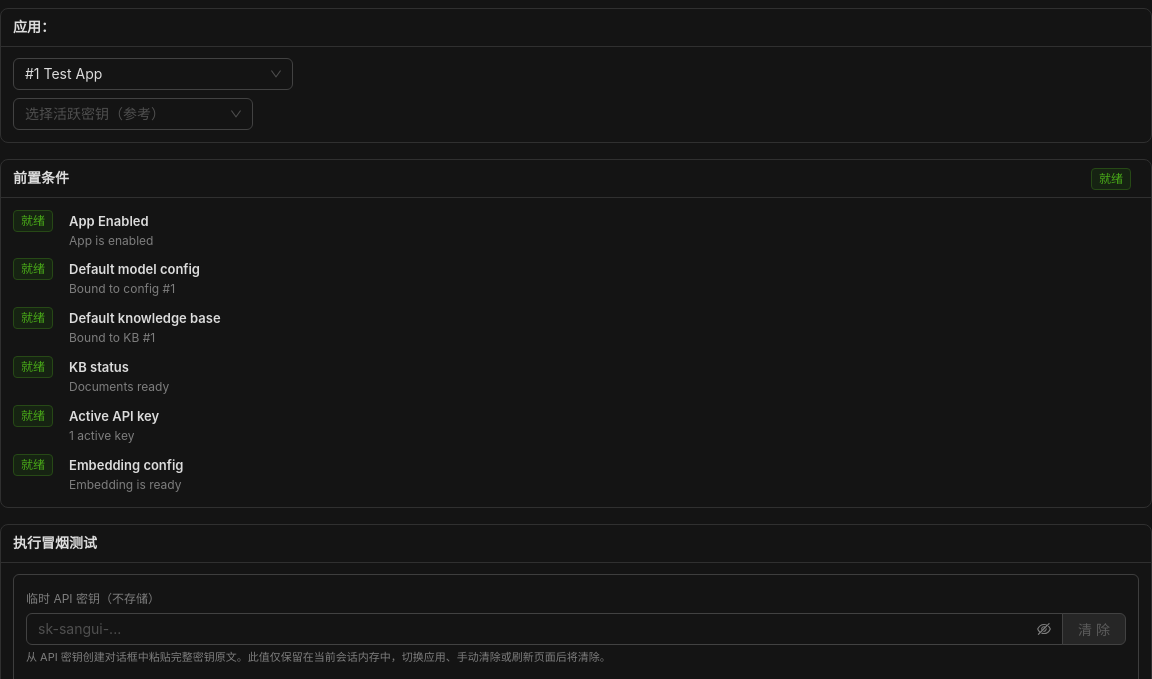
Test case: SmokeTestPage › streaming missing [DONE] › shows streaming failure and next-step when [DONE] is missing
Expected: the text "前置条件" is shown, [13,169,69,186]
Type "sk-sangui-test-key-12345" into the password field with placeholder "sk-sangui-..." at [536, 629], box [38,618,1033,640]
(page scrolled)
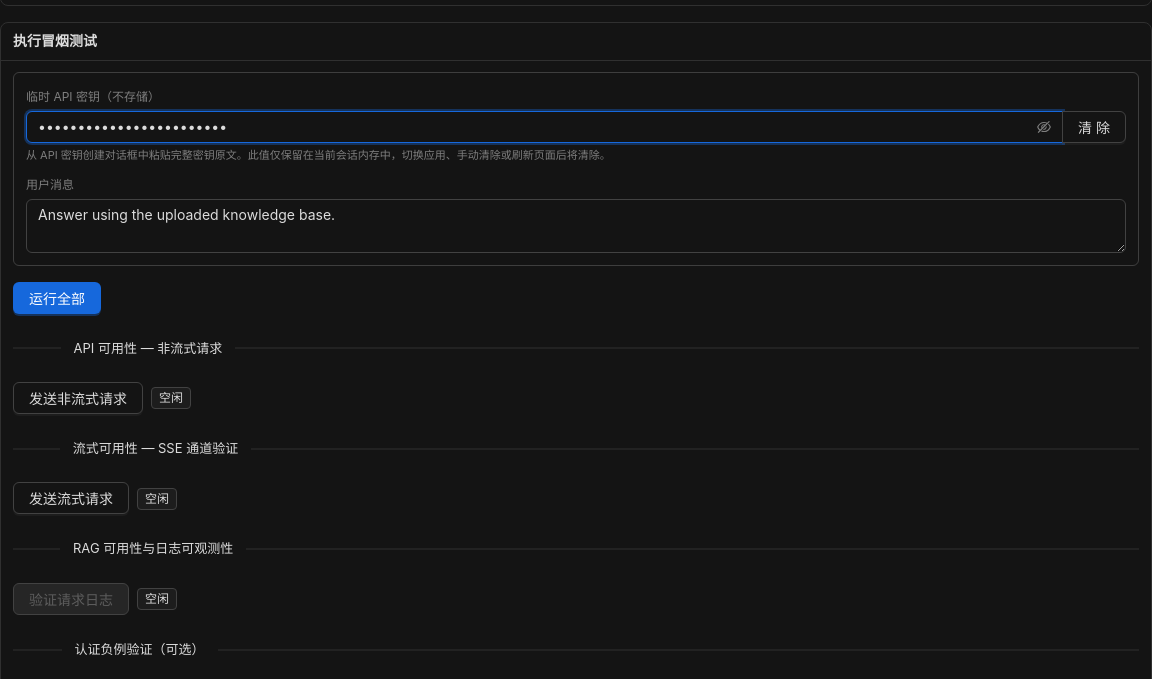
Click the button "发送流式请求" at [71, 498], box [13,482,129,514]
(page scrolled)
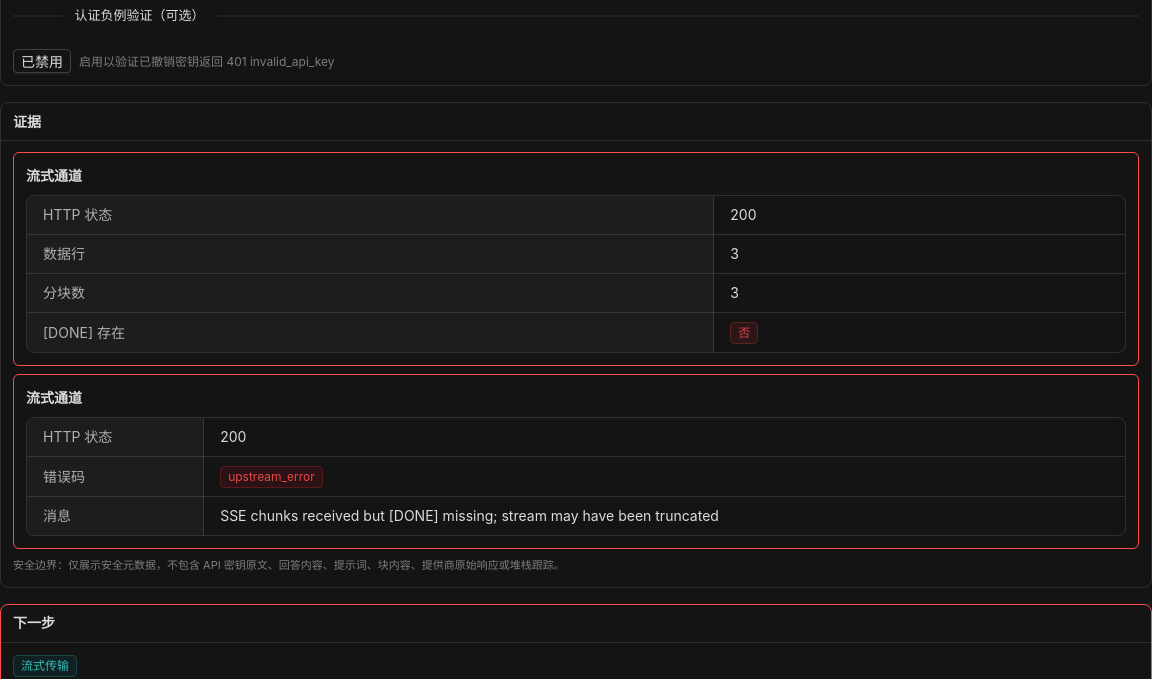
Now the text "下一步" is shown, box [13,614,55,631]
